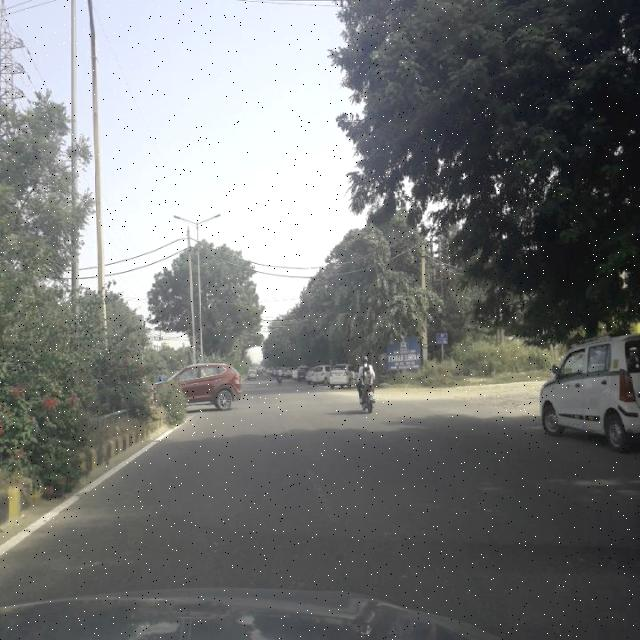D44: (297, 444, 345, 534)
